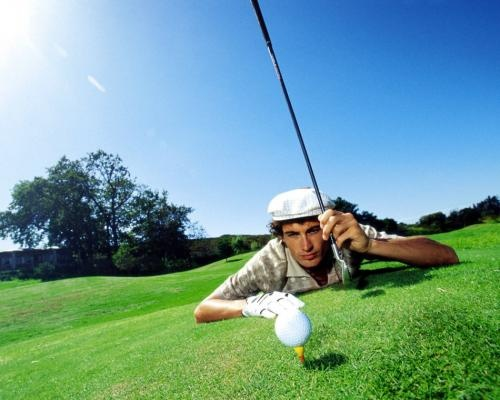falling: (200, 168, 497, 347)
